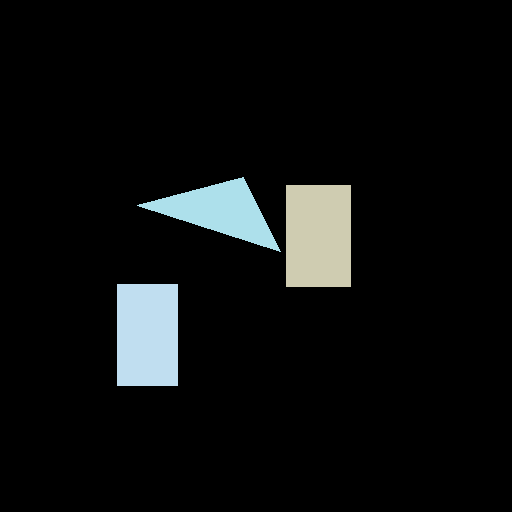rectangle: (286, 185, 350, 286), (117, 284, 177, 385)
triangle: (137, 177, 280, 251)
